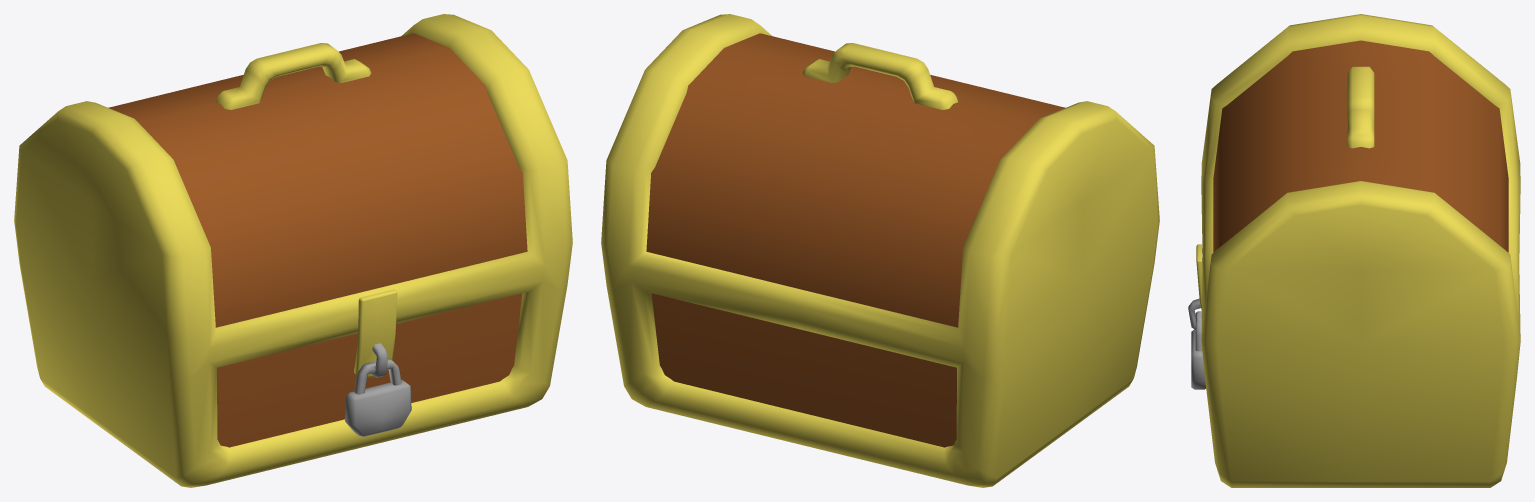
The model's file is TreasureChest_01a.fbx.
3 renders of one model, left to right at view 1: azimuth 30°, elevation 25°; view 2: azimuth 150°, elevation 25°; view 3: azimuth 270°, elevation 25°, orthographic. The views are drawn at different scales.
Visible parts, largest first — view 1: TreasureChest_01; view 2: TreasureChest_01; view 3: TreasureChest_01.
Boxes of the visible parts, <box> form: TreasureChest_01: <box>14,14,572,487</box>; TreasureChest_01: <box>601,14,1159,487</box>; TreasureChest_01: <box>1188,14,1520,487</box>.
Bounding box in the file's own units: 92.35 × 74.88 × 69.27.
